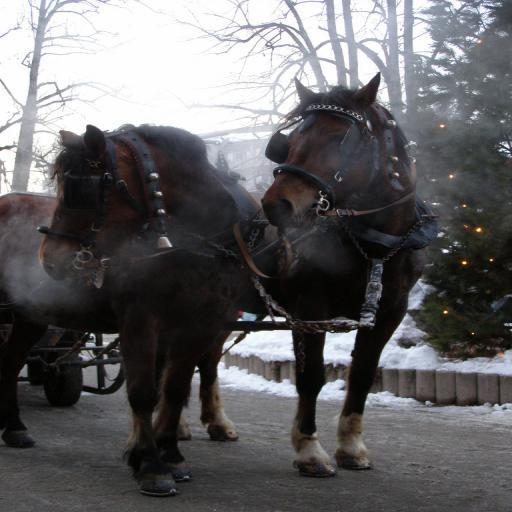horse: (152, 72, 430, 474), (0, 124, 264, 498)
